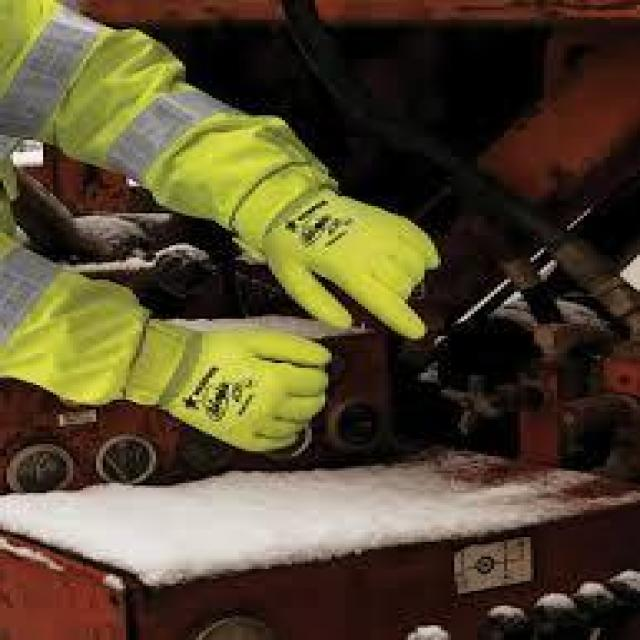Gloves: (150, 94, 443, 349), (55, 271, 347, 460)
